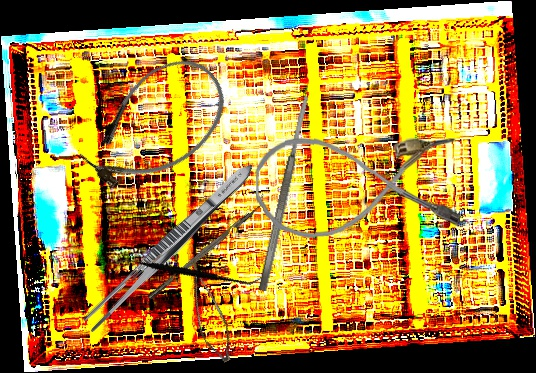Cannula: (66, 41, 244, 210), (254, 132, 461, 240)
Chopper: (142, 192, 271, 301)
Dressing Forceps: (79, 157, 259, 337)
Micro Scissor: (164, 255, 249, 366)
Spatula Surgical: (113, 210, 263, 331), (256, 95, 313, 292)
